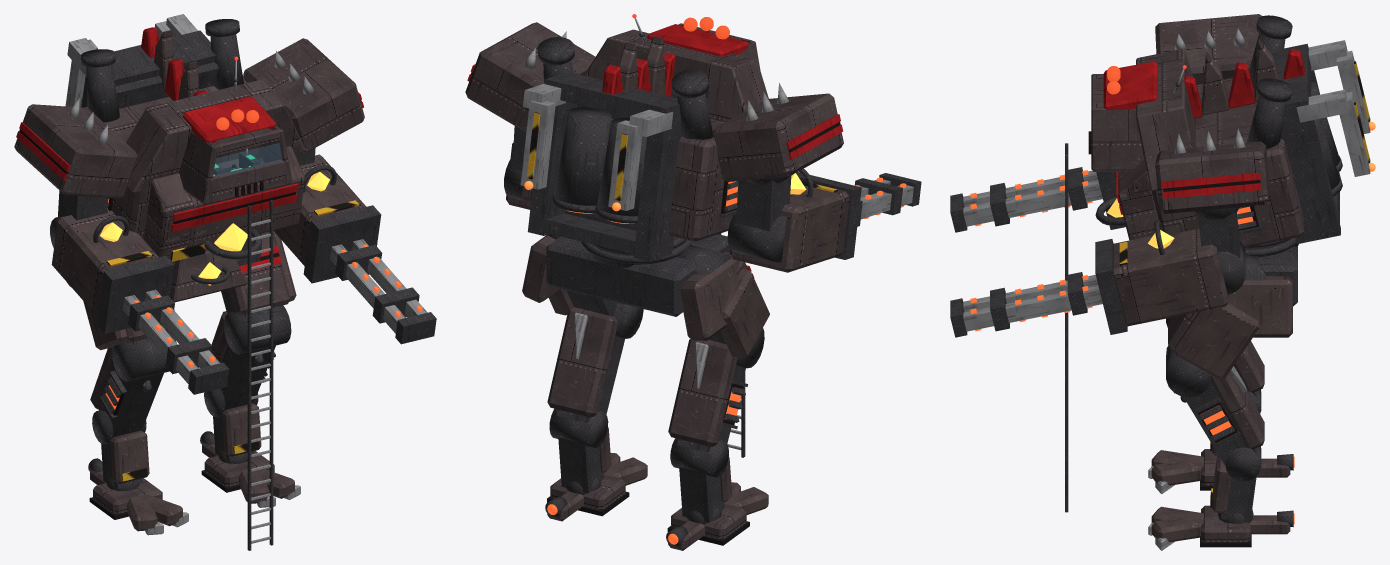
File: mech_ravager.glb
The picture shows the model from 3 angles, left to right: view 1: azimuth 30°, elevation 25°; view 2: azimuth 150°, elevation 25°; view 3: azimuth 270°, elevation 25°; orthographic projection. The views are drawn at different scales.
Parts seen in each view (by area): view 1: torso_ravager_armor, shoulder_R_ravager_armor, shoulder_L_ravager_armor, torso_ravager_frame, torso_ravager_armor2, cockpit_ravager_armor, forearm_R_ravager_armor2, forearm_R_ravager_frame, forearm_L_ravager_frame, ladder_ravager_dark, torso_ravager_dark, forearm_L_ravager_armor2 (+34 smaller); view 2: torso_ravager_frame, torso_ravager_armor, torso_ravager_dark, shoulder_R_ravager_armor, pelvis_ravager_frame, shoulder_L_ravager_armor, shin_L_ravager_armor, forearm_R_ravager_armor2, shin_R_ravager_armor, pelvis_ravager_armor2, thigh_R_ravager_armor2, clamp_R_ravager_metal (+25 smaller); view 3: torso_ravager_armor, torso_ravager_frame, forearm_L_ravager_armor2, shoulder_L_ravager_armor, shoulder_R_ravager_armor, thigh_L_ravager_armor2, cockpit_ravager_armor, hand_L_ravager_metal, torso_ravager_dark, hand_R_ravager_metal, pelvis_ravager_armor2, clamp_L_ravager_metal (+30 smaller).
Boxes of the visible parts, left/top/right/bottom form: torso_ravager_armor: left=84, top=75, right=305, bottom=238; shoulder_R_ravager_armor: left=14, top=104, right=137, bottom=198; shoulder_L_ravager_armor: left=243, top=38, right=364, bottom=153; torso_ravager_frame: left=81, top=19, right=262, bottom=259; torso_ravager_armor2: left=143, top=146, right=304, bottom=257; cockpit_ravager_armor: left=178, top=125, right=292, bottom=204; forearm_R_ravager_armor2: left=51, top=209, right=158, bottom=316; forearm_R_ravager_frame: left=93, top=215, right=173, bottom=333; forearm_L_ravager_frame: left=303, top=165, right=381, bottom=283; ladder_ravager_dark: left=247, top=200, right=273, bottom=550; torso_ravager_dark: left=86, top=34, right=243, bottom=122; forearm_L_ravager_armor2: left=273, top=154, right=366, bottom=265; torso_ravager_frame: left=527, top=37, right=738, bottom=261; torso_ravager_armor: left=520, top=29, right=768, bottom=241; torso_ravager_dark: left=528, top=60, right=713, bottom=257; shoulder_R_ravager_armor: left=712, top=93, right=843, bottom=181; pelvis_ravager_frame: left=546, top=234, right=729, bottom=316; shoulder_L_ravager_armor: left=465, top=22, right=595, bottom=132; shin_L_ravager_armor: left=547, top=307, right=617, bottom=417; forearm_R_ravager_armor2: left=729, top=185, right=849, bottom=272; shin_R_ravager_armor: left=668, top=339, right=737, bottom=446; pelvis_ravager_armor2: left=522, top=235, right=740, bottom=340; thigh_R_ravager_armor2: left=720, top=268, right=769, bottom=358; clamp_R_ravager_metal: left=608, top=109, right=673, bottom=210; torso_ravager_armor: left=1136, top=49, right=1303, bottom=247; torso_ravager_frame: left=1095, top=15, right=1342, bottom=243; forearm_L_ravager_armor2: left=1113, top=228, right=1228, bottom=326; shoulder_L_ravager_armor: left=1155, top=141, right=1270, bottom=213; shoulder_R_ravager_armor: left=1155, top=14, right=1262, bottom=84; thigh_L_ravager_armor2: left=1174, top=303, right=1259, bottom=379; cockpit_ravager_armor: left=1091, top=74, right=1144, bottom=171; hand_L_ravager_metal: left=963, top=275, right=1102, bottom=331; torso_ravager_dark: left=1246, top=33, right=1339, bottom=230; hand_R_ravager_metal: left=963, top=170, right=1102, bottom=226; pelvis_ravager_armor2: left=1228, top=276, right=1292, bottom=337; clamp_L_ravager_metal: left=1296, top=89, right=1370, bottom=176.
Bounding box in the file's own units: 8.78 × 12.5 × 10.3.
Materials: 17 (7 with a texture image).
